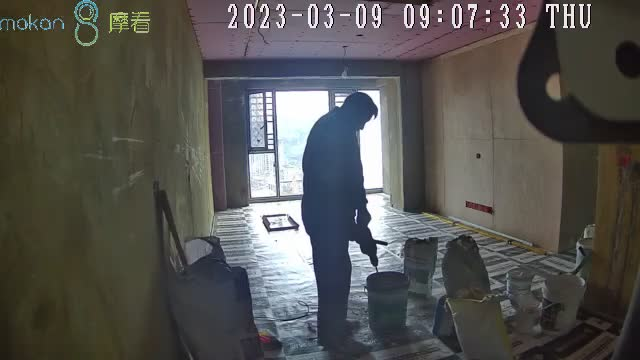people: (302, 91, 378, 354)
window: (249, 88, 385, 196)
